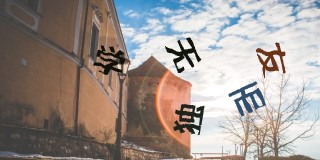友: (256, 41, 287, 78)
学: (93, 45, 125, 75)
无: (164, 37, 201, 73)
独: (173, 104, 205, 135)
而: (226, 81, 266, 116)
